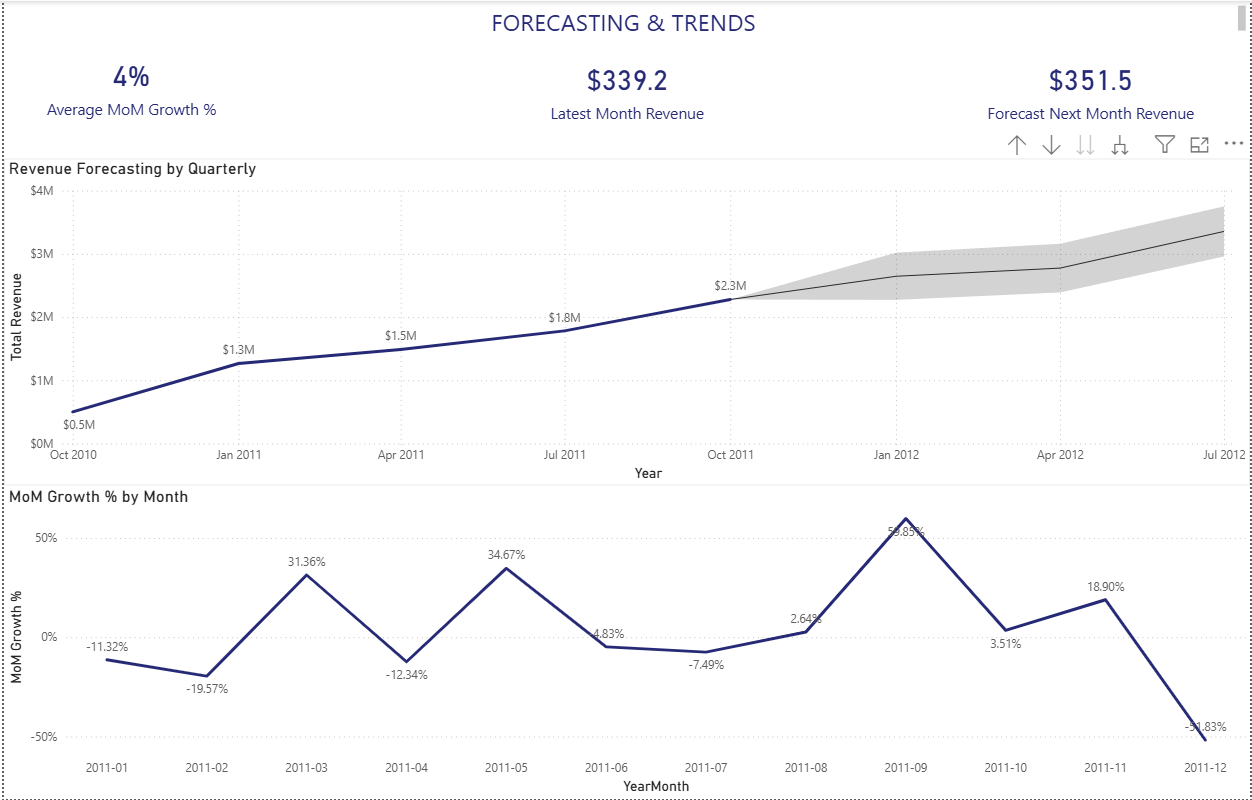

Layout of this report page (visuals, bound fields, positions):
{"tool":"powerbi","page":{"name":"FORECASTING & TRENDS","canvas":[1280,820],"ordinal":3},"visuals":[{"type":"lineChart","title":"Revenue Forecasting by Quarterly","fields":{"Y":["cleaned_data.Total Revenue"],"Category":["DateTable.Date.Variation.Date Hierarchy.Year","DateTable.Date.Variation.Date Hierarchy.Quarter","DateTable.Date.Variation.Date Hierarchy.Month"]},"box":[0,161.7,1280,336.7],"z":0},{"type":"lineChart","title":"MoM Growth % by Month","fields":{"Category":["DateTable.YearMonth"],"Y":["cleaned_data.MoM Growth %"]},"box":[0,498.3,1280,321.7],"z":1},{"type":"card","fields":{"Values":["cleaned_data.Average MoM Growth %"]},"box":[23.3,50,215,81.7],"z":2},{"type":"card","fields":{"Values":["cleaned_data.Latest Month Revenue"]},"box":[533.3,50,215,81.7],"z":3},{"type":"card","fields":{"Values":["cleaned_data.Forecast Next Month Revenue"]},"box":[998.3,50,235,81.7],"z":4},{"type":"textbox","box":[0,0,1280,38.3],"z":5}]}

Visuals, with their boxes in screenshot pixels (x1, y1, x2, y2), scaled from the page's 1280x820 canvas onto the 1252x800 screenshot:
"Revenue Forecasting by Quarterly" lineChart: rect(0, 158, 1251, 486)
"MoM Growth % by Month" lineChart: rect(0, 486, 1251, 799)
card - cleaned_data.Average MoM Growth %: rect(23, 49, 233, 128)
card - cleaned_data.Latest Month Revenue: rect(522, 49, 732, 128)
card - cleaned_data.Forecast Next Month Revenue: rect(976, 49, 1206, 128)
textbox: rect(0, 0, 1251, 37)
